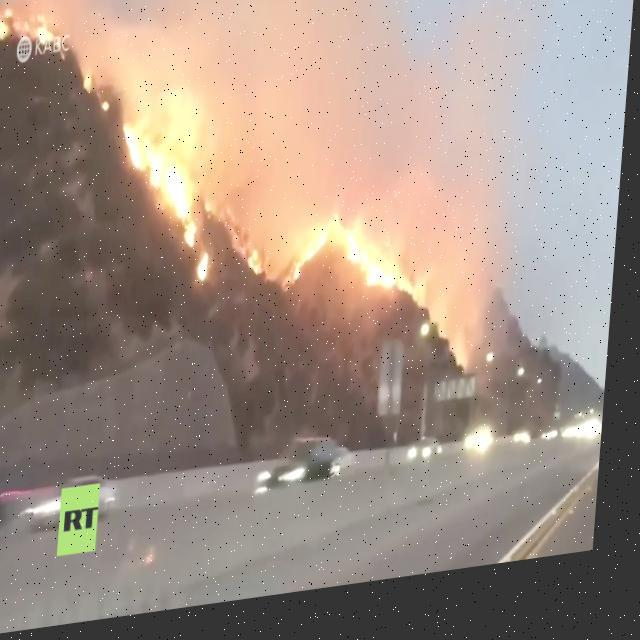Fire: (290, 211, 429, 327), (119, 113, 205, 257), (0, 0, 55, 49), (252, 254, 270, 288), (198, 258, 217, 288)
